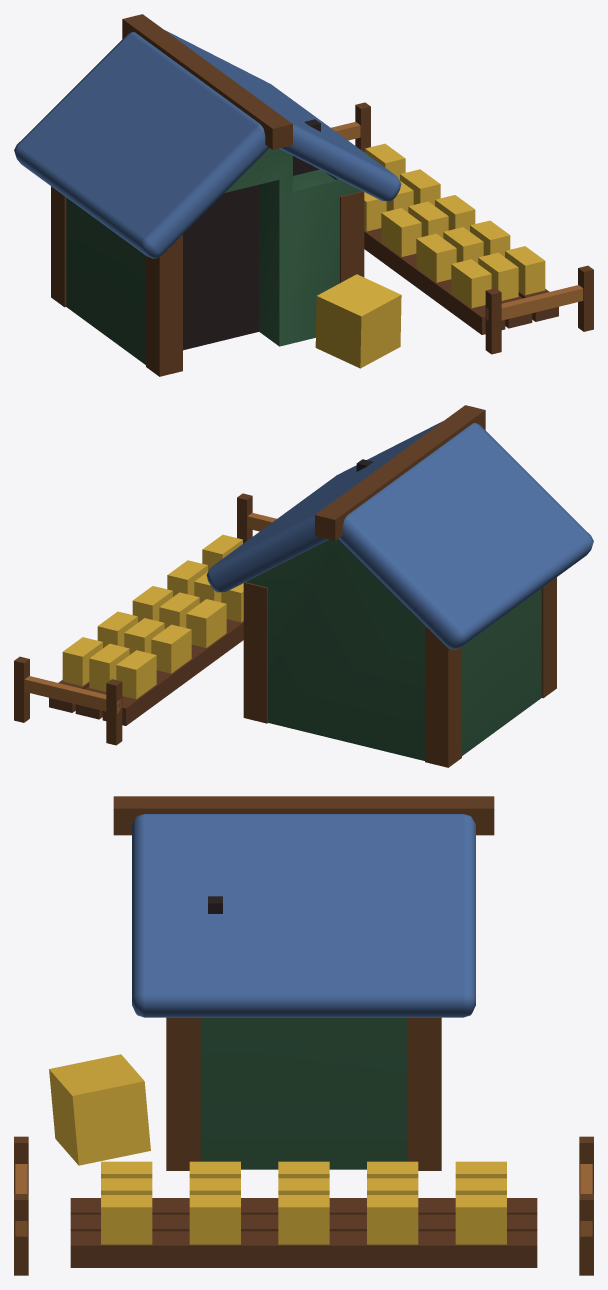
The model's file is Buildings__farm_b.glb.
The picture shows the model from 3 angles, top to bottom: view 1: azimuth 30°, elevation 25°; view 2: azimuth 150°, elevation 25°; view 3: azimuth 270°, elevation 25°; orthographic projection. The views are drawn at different scales.
Visible parts, largest first — view 1: farm_b_mesh; view 2: farm_b_mesh; view 3: farm_b_mesh.
Boxes of the visible parts, <box> form: farm_b_mesh: <box>14,14,593,376</box>; farm_b_mesh: <box>14,405,593,767</box>; farm_b_mesh: <box>14,796,593,1275</box>.
Bounding box in the file's own units: 2.39 × 1.37 × 2.36.
